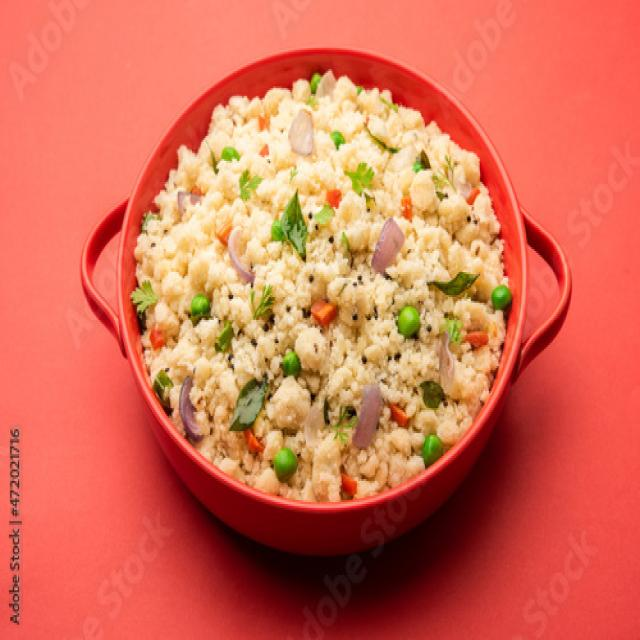UPMA: (131, 71, 522, 502)
